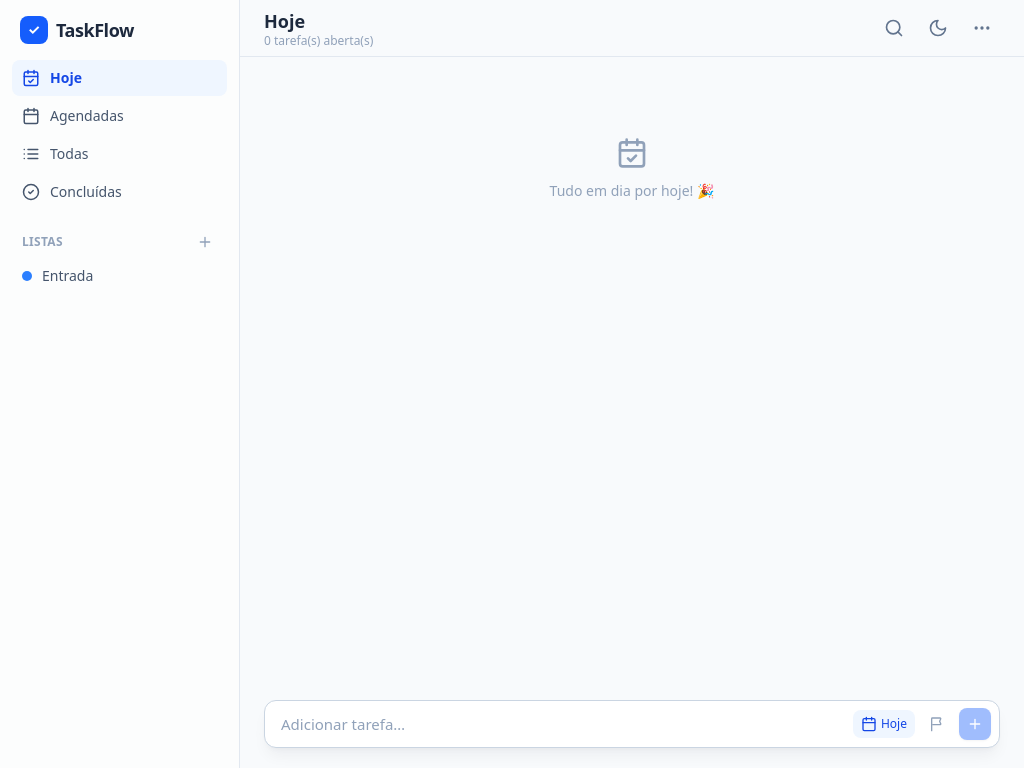
Test case: App › edita tarefa pelo editor completo
The width and height of the screenshot is (1024, 768).
Type "Estudar" into the field labelled "Adicionar tarefa". click: (559, 724)
box: x1=273 y1=706 x2=845 y2=741
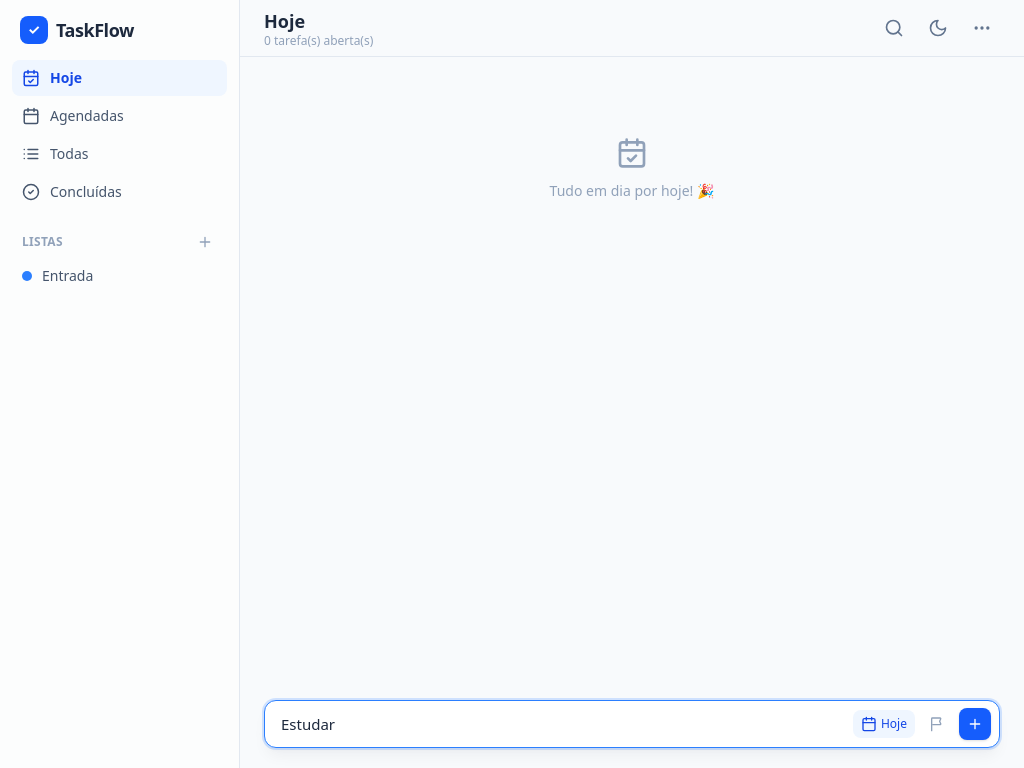
Press Enter
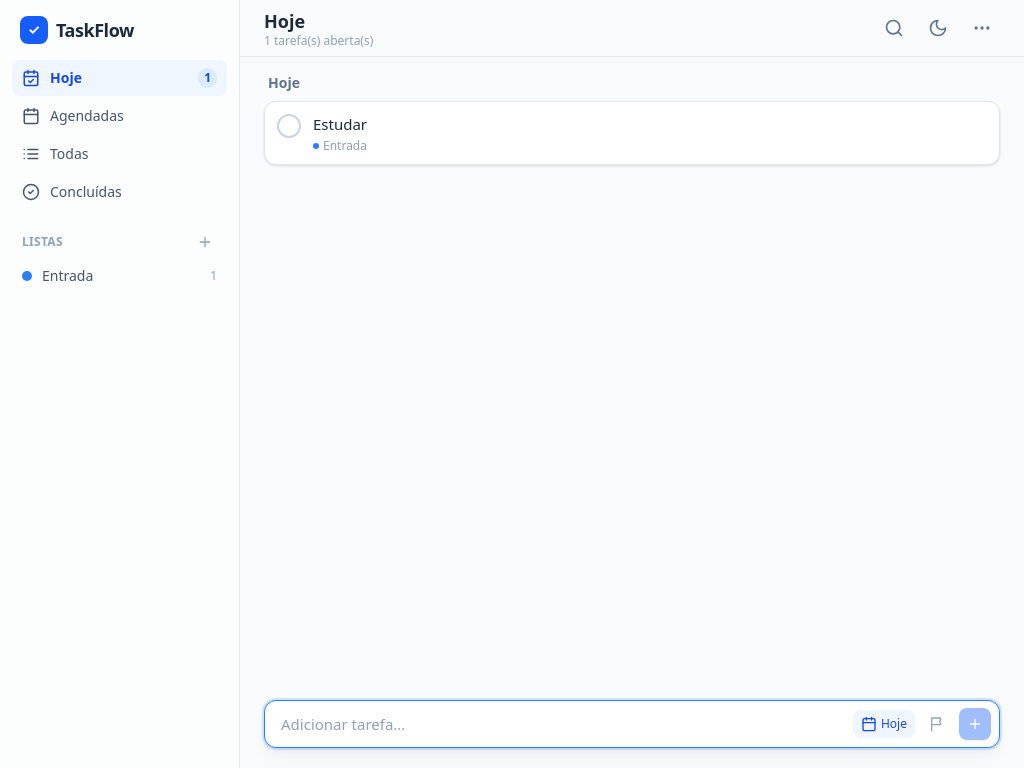
Click the text "Estudar". click: (340, 124)
box: x1=313 y1=114 x2=367 y2=134
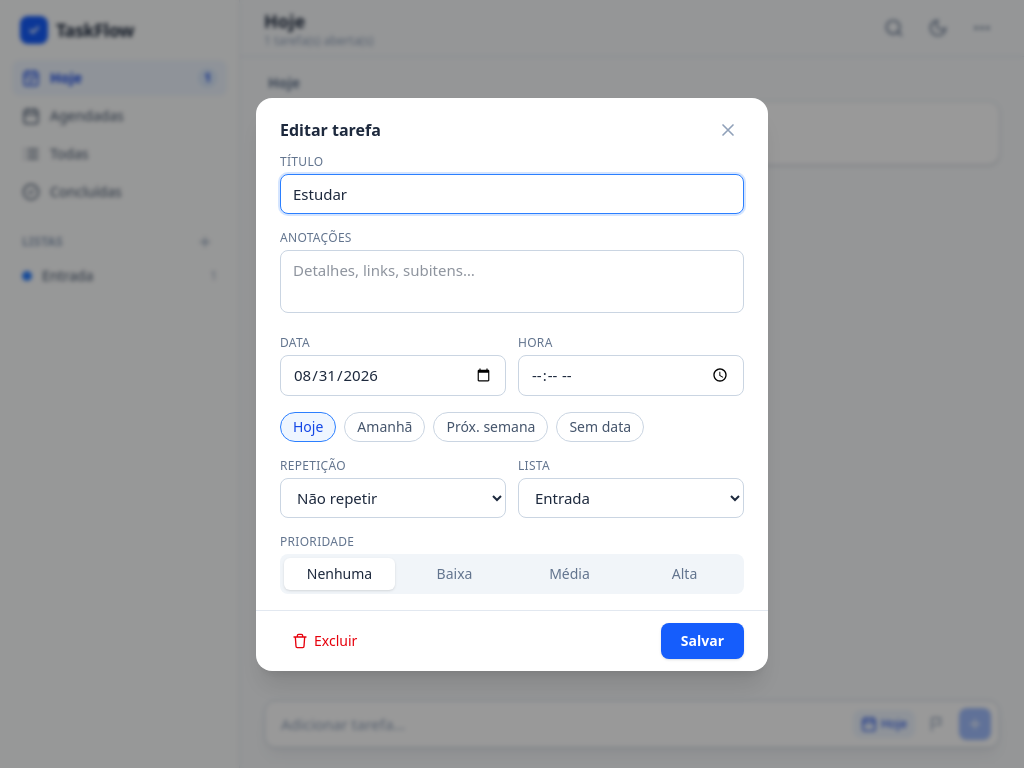
Replace the text in the field labelled "Título" with "Estudar TypeScript". click: (512, 194)
box: x1=280 y1=174 x2=744 y2=214
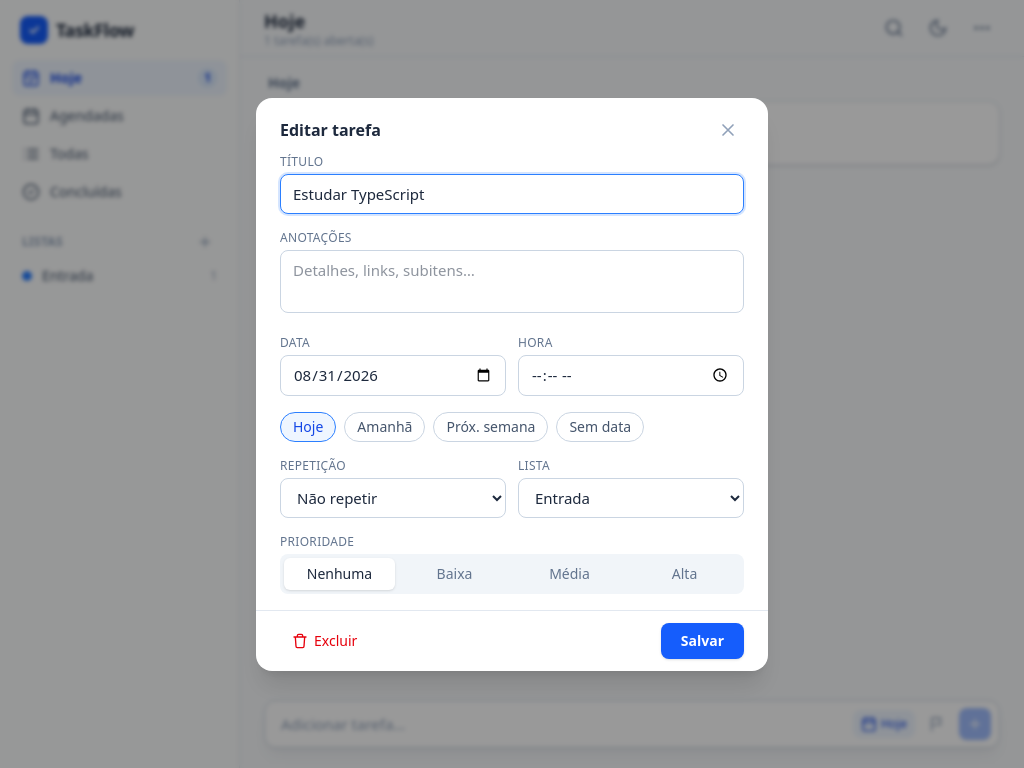
Click the button "Salvar". click: (702, 640)
box: x1=661 y1=622 x2=744 y2=658
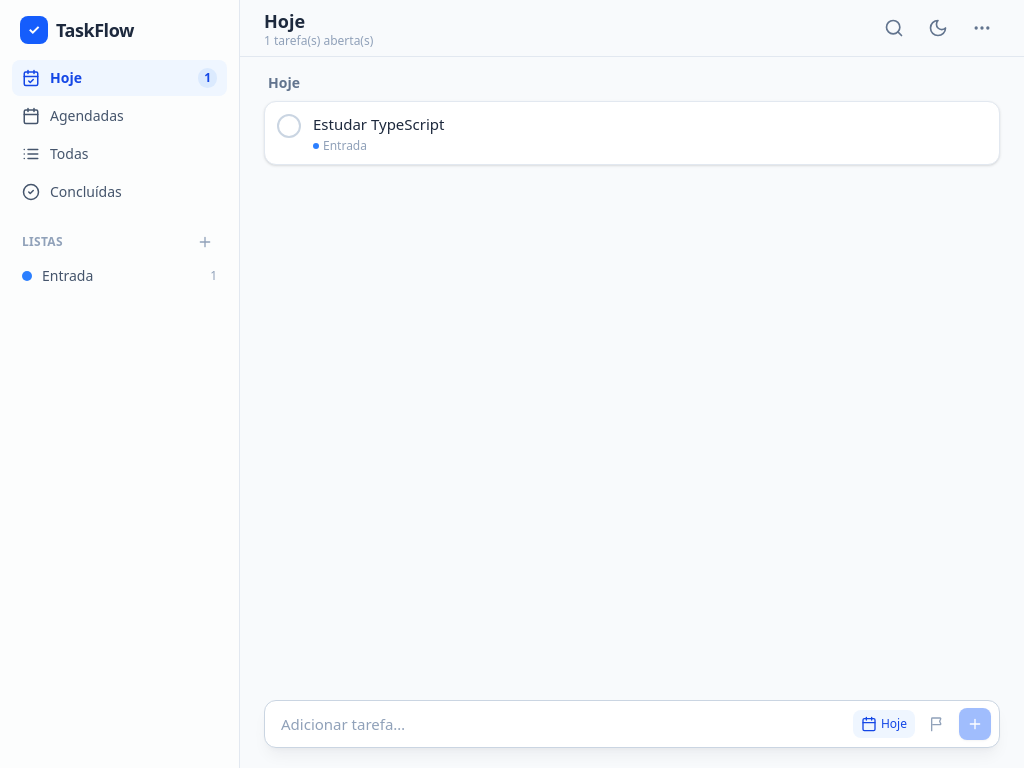
Check: the text "Estudar TypeScript" is shown, box x1=313 y1=114 x2=444 y2=134
Check: the dialog is gone
